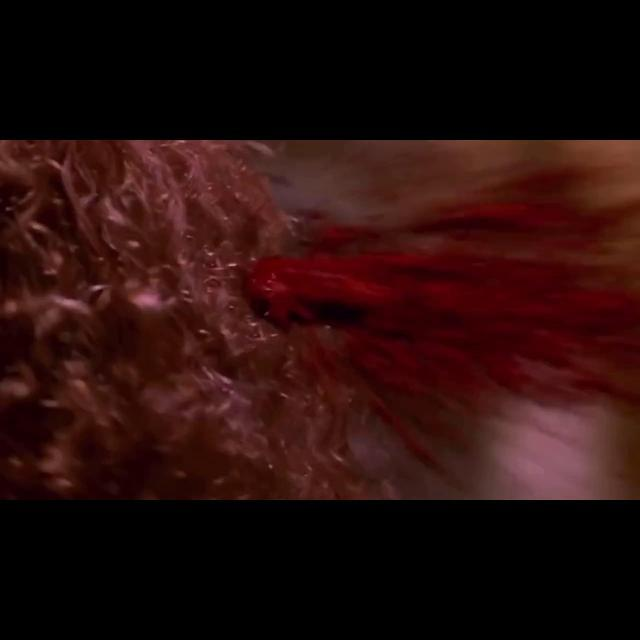blood: (256, 164, 640, 493)
